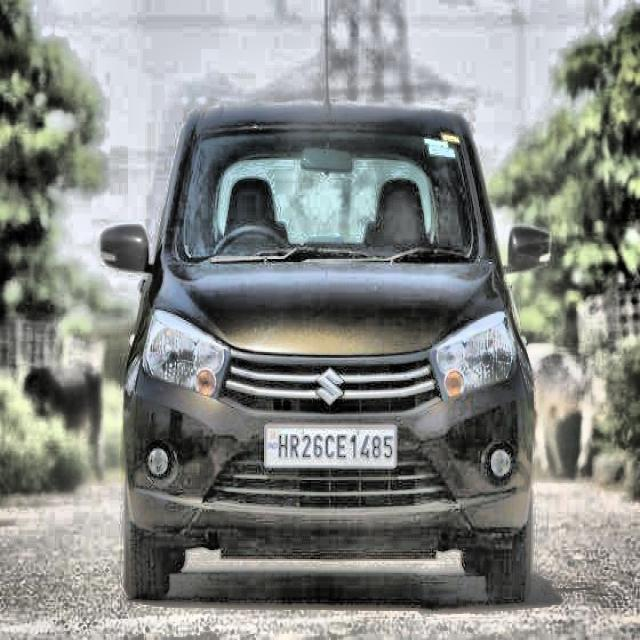license_plate: (266, 426, 394, 470)
